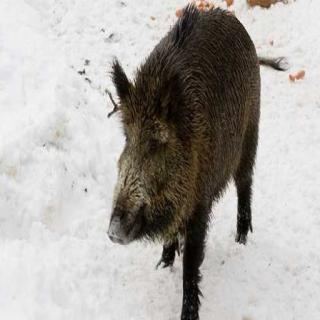Pig: (89, 15, 297, 320)
